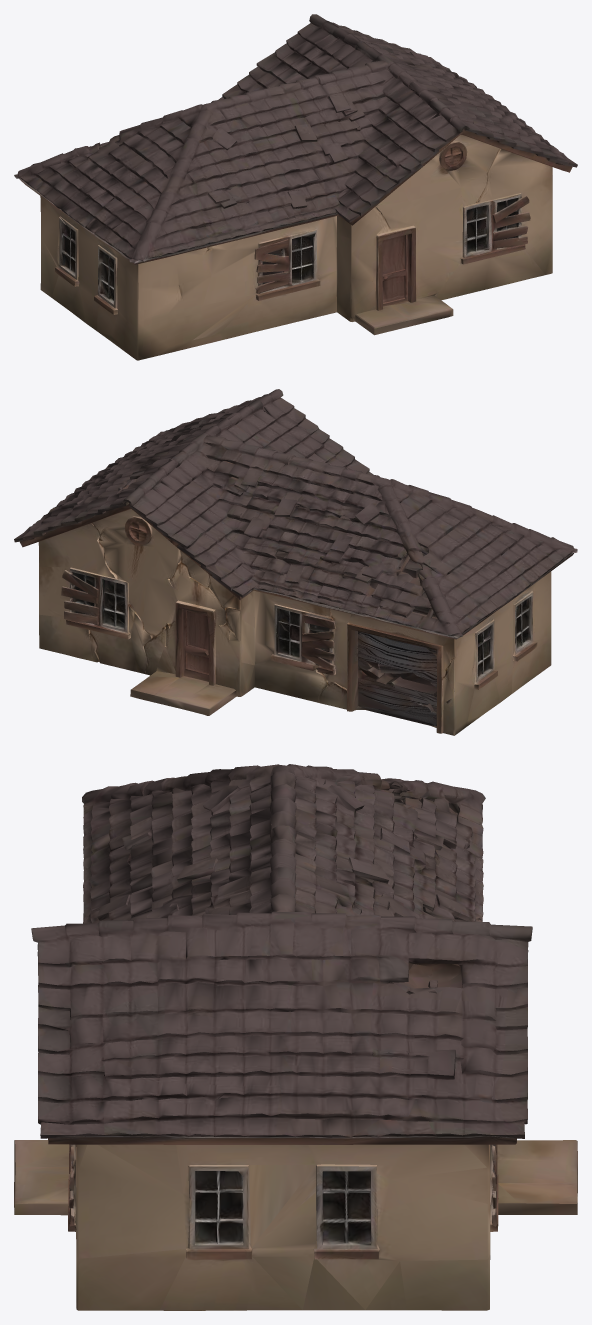
The model's file is house_cottage_idle.glb.
The picture shows the model from 3 angles, top to bottom: view 1: azimuth 30°, elevation 25°; view 2: azimuth 150°, elevation 25°; view 3: azimuth 270°, elevation 25°; orthographic projection. The views are drawn at different scales.
Visible parts, largest first — view 1: tripo_node_ac9483fd-ab39-44c3-989c-932a650a8680; view 2: tripo_node_ac9483fd-ab39-44c3-989c-932a650a8680; view 3: tripo_node_ac9483fd-ab39-44c3-989c-932a650a8680.
Boxes of the visible parts, x1=… form: tripo_node_ac9483fd-ab39-44c3-989c-932a650a8680: x1=14, y1=14, x2=577, y2=360; tripo_node_ac9483fd-ab39-44c3-989c-932a650a8680: x1=14, y1=389, x2=577, y2=735; tripo_node_ac9483fd-ab39-44c3-989c-932a650a8680: x1=14, y1=764, x2=577, y2=1310.
Bounding box in the file's own units: 8 × 3.41 × 5.44.
Materials: 1 (1 with a texture image).
